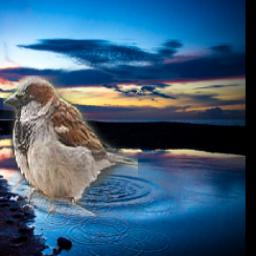Sparrow: (4, 77, 139, 217)
